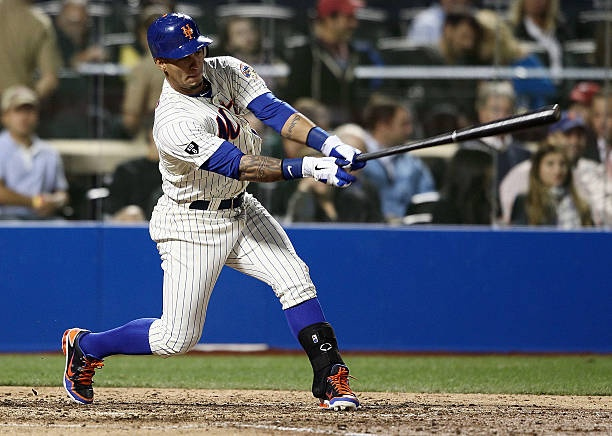bita: (334, 106, 557, 161)
